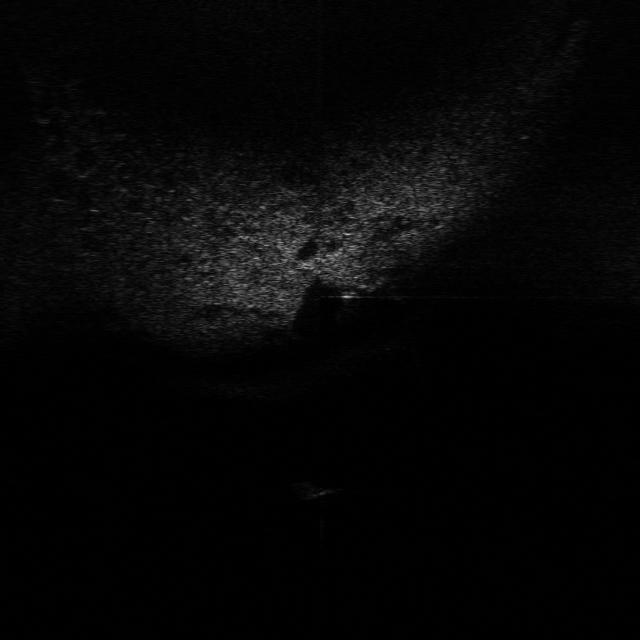ball: (383, 274, 418, 302)
cube: (291, 476, 348, 504)
